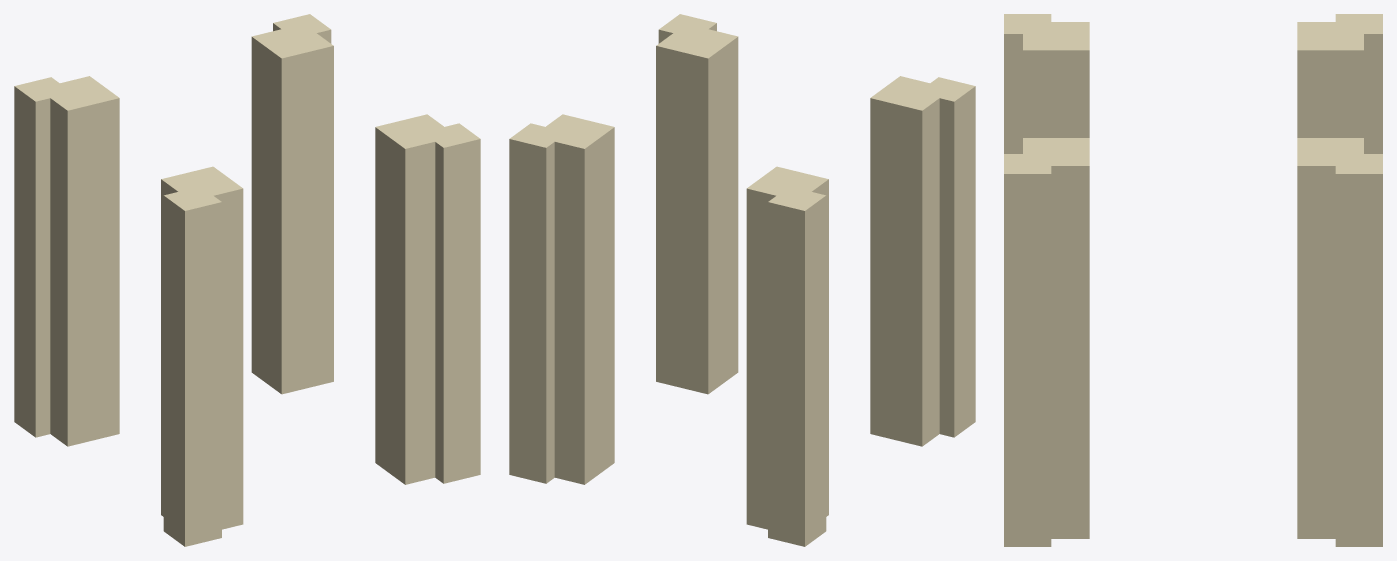
File: towersquarepoles.glb
The picture shows the model from 3 angles, left to right: view 1: azimuth 30°, elevation 25°; view 2: azimuth 150°, elevation 25°; view 3: azimuth 270°, elevation 25°; orthographic projection. The views are drawn at different scales.
Parts seen in each view (by area): view 1: towerSquarePoles; view 2: towerSquarePoles; view 3: towerSquarePoles.
Part boxes in pixels (x1=…): towerSquarePoles: x1=14, y1=14, x2=480, y2=546; towerSquarePoles: x1=509, y1=14, x2=975, y2=546; towerSquarePoles: x1=1004, y1=14, x2=1382, y2=546.
Bounding box in the file's own units: 9.3 × 10.1 × 9.3.
